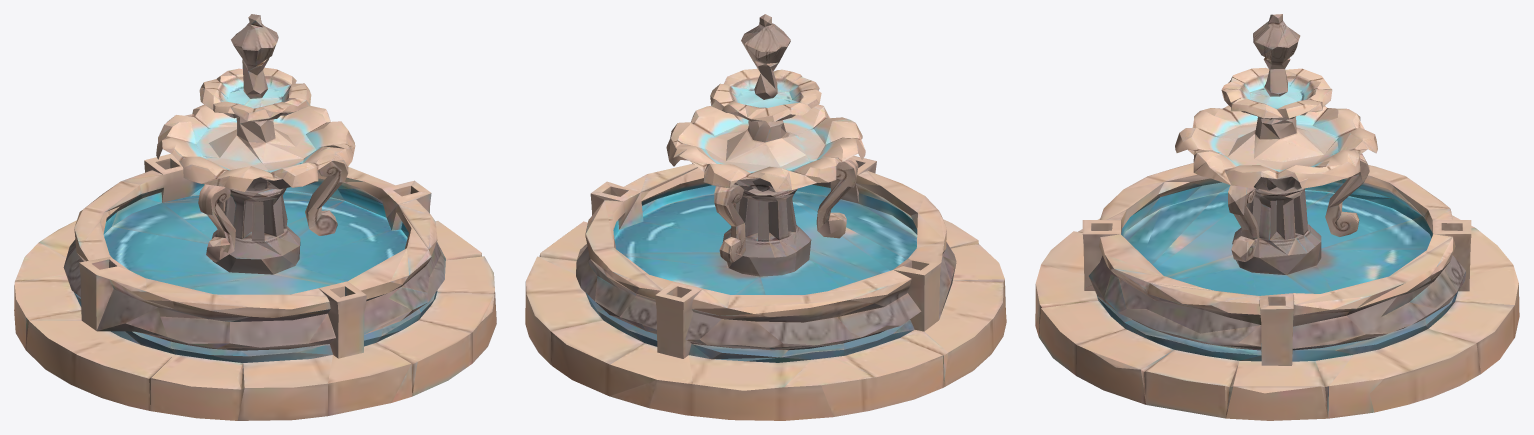
Rendered from fountain.glb.
3 views of the same model, side by side, from view 1: azimuth 30°, elevation 25°; view 2: azimuth 150°, elevation 25°; view 3: azimuth 270°, elevation 25° (orthographic).
Bounding box in the file's own units: 1.9 × 1.32 × 1.89.
1 material, 1 textured.
